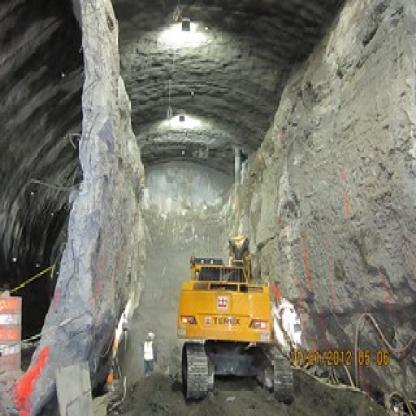excavator: (161, 180, 304, 411)
